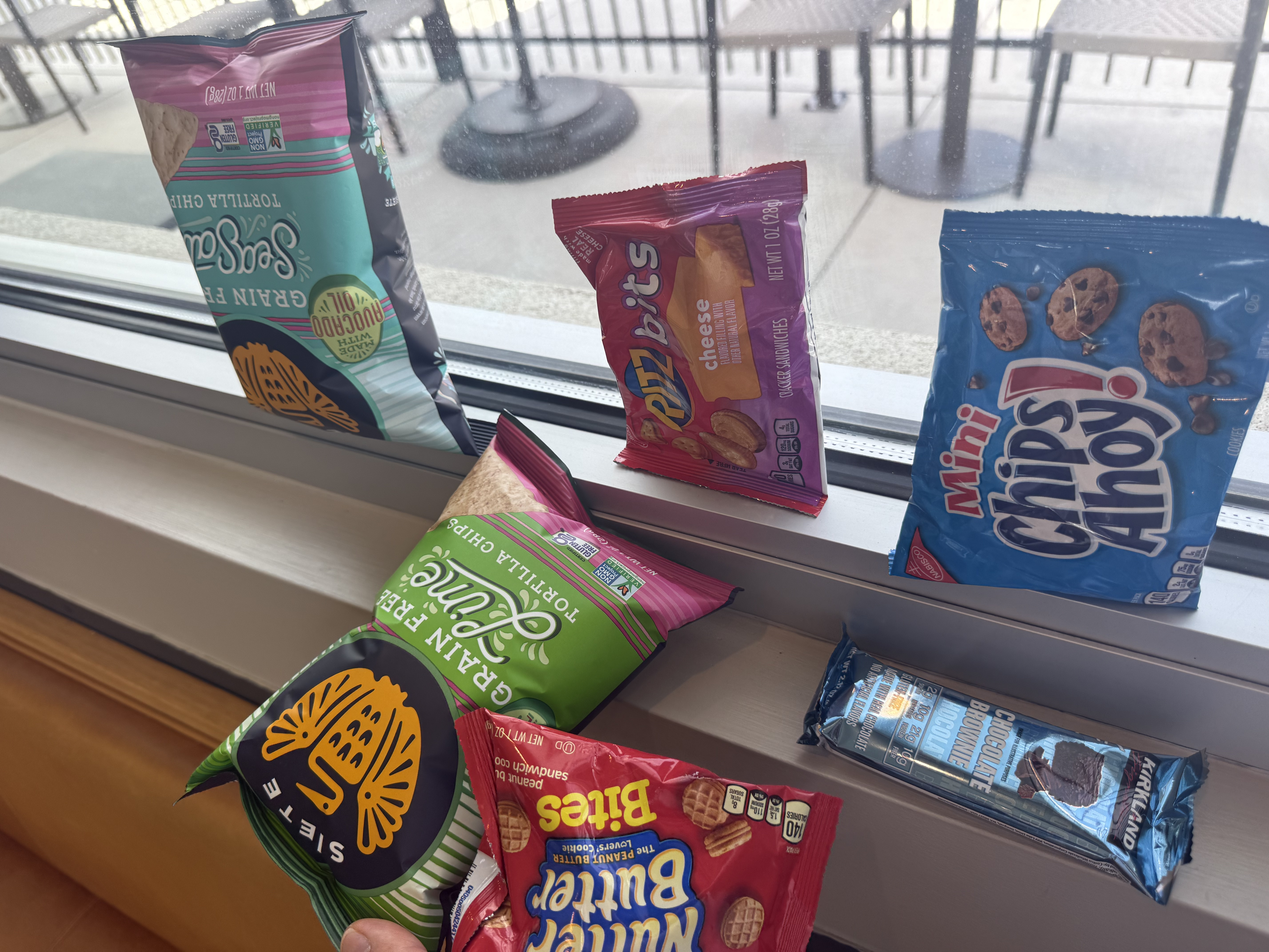chips_ahoy: (950, 209, 1241, 625)
chocolate_brownie: (855, 622, 1246, 768)
lime: (464, 434, 715, 854)
nutter_butter: (492, 711, 804, 946)
ritz_cheese: (600, 198, 828, 481)
sea_salt: (127, 72, 354, 495)
